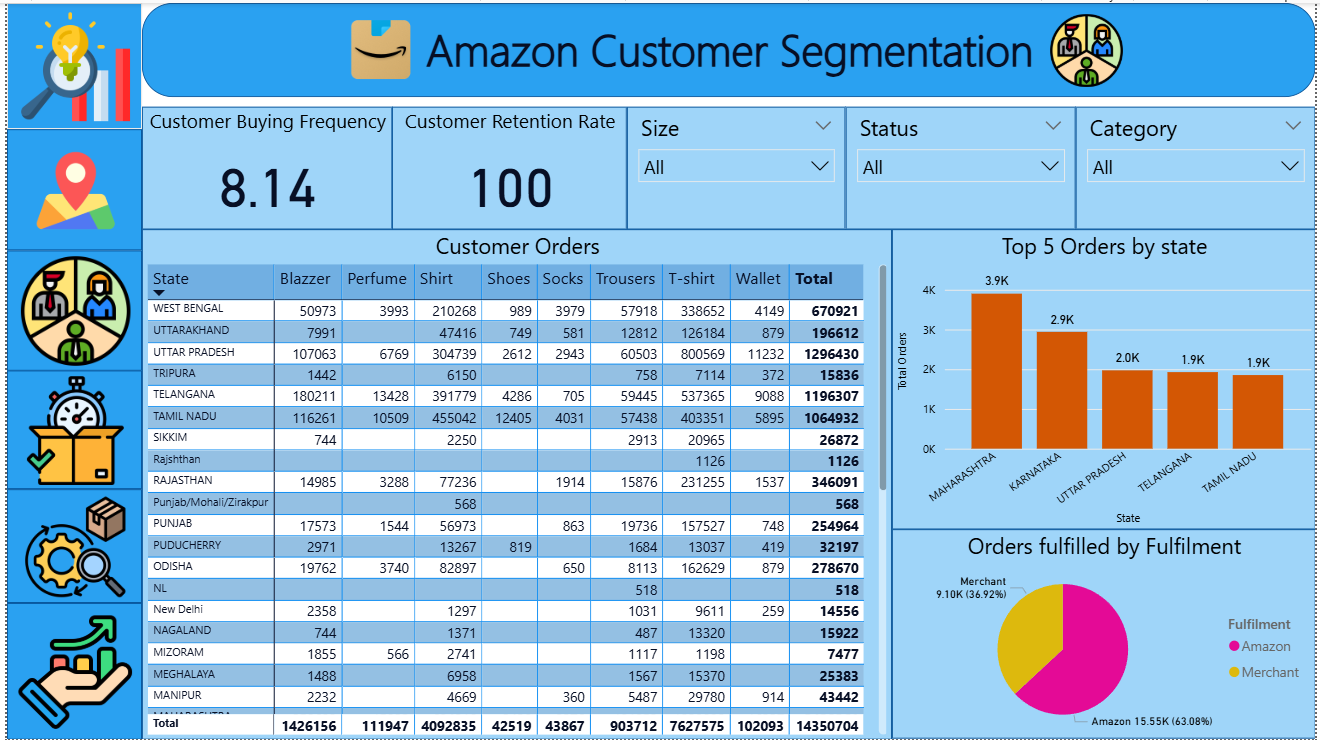

Layout of this report page (visuals, bound fields, positions):
{"tool":"powerbi","page":{"name":"Customer Segmentation","canvas":[1280,720],"ordinal":3},"visuals":[{"type":"textbox","box":[132.1,0,1148.2,91.7],"z":0},{"type":"image","box":[0,242.1,132.1,117.4],"z":1000},{"type":"image","box":[0,0,132.1,123.5],"z":2000},{"type":"image","box":[0,359.5,132.1,116.2],"z":3000},{"type":"image","box":[0,475.7,132.1,111.3],"z":4000},{"type":"image","box":[0,587,132.1,133.3],"z":5000},{"type":"image","box":[0,123.5,132.1,118.6],"z":6000},{"type":"image","box":[1010.1,6.1,91.7,80.7],"z":7000},{"type":"card","title":"Customer Buying Frequency","fields":{"Values":["Amazon Sale Report.Customer Buying Frequeny"]},"box":[132.1,101.5,244.6,119.8],"z":8000},{"type":"card","title":"Customer Retention Rate","fields":{"Values":["Amazon Sale Report.Customer Retention %"]},"box":[376.6,101.5,229.9,119.8],"z":9000},{"type":"slicer","fields":{"Values":["Amazon Sale Report.Status"]},"box":[820.5,101.5,225,119.8],"z":10000},{"type":"slicer","fields":{"Values":["Amazon Sale Report.Size"]},"box":[606.5,101.5,214,119.8],"z":11000},{"type":"slicer","fields":{"Values":["Amazon Sale Report.Category"]},"box":[1045.5,101.5,234.8,119.8],"z":12000},{"type":"clusteredColumnChart","title":"Top 5 Orders by state","fields":{"Y":["Amazon Sale Report.Total Orders"],"Category":["Amazon Sale Report.ship-state"]},"box":[865.9,220.9,414.4,293.7],"z":13000},{"type":"pivotTable","title":"Customer Orders","fields":{"Rows":["Amazon Sale Report.ship-state","Amazon Sale Report.ship-city"],"Columns":["Amazon Sale Report.Category"],"Values":["Sum(Amazon Sale Report.Amount)"]},"box":[132.1,221.3,733.7,498.9],"z":14000},{"type":"pieChart","fields":{"Y":["CountNonNull(Amazon Sale Report.fulfilled-by)"],"Category":["Amazon Sale Report.Fulfilment"]},"box":[866,515,414,205],"z":15000},{"type":"image","box":[303.3,0,124.7,91.7],"z":16000}]}

Visuals, with their boxes in screenshot pixels (x1, y1, x2, y2), scaled from the page's 1280x720 canvas onto the 1320x740 screenshot:
textbox: {"x1": 136, "y1": 0, "x2": 1319, "y2": 94}
image: {"x1": 0, "y1": 249, "x2": 136, "y2": 369}
image: {"x1": 0, "y1": 0, "x2": 136, "y2": 127}
image: {"x1": 0, "y1": 369, "x2": 136, "y2": 489}
image: {"x1": 0, "y1": 489, "x2": 136, "y2": 603}
image: {"x1": 0, "y1": 603, "x2": 136, "y2": 739}
image: {"x1": 0, "y1": 127, "x2": 136, "y2": 249}
image: {"x1": 1042, "y1": 6, "x2": 1136, "y2": 89}
"Customer Buying Frequency" card: {"x1": 136, "y1": 104, "x2": 388, "y2": 227}
"Customer Retention Rate" card: {"x1": 388, "y1": 104, "x2": 625, "y2": 227}
slicer - Amazon Sale Report.Status: {"x1": 846, "y1": 104, "x2": 1078, "y2": 227}
slicer - Amazon Sale Report.Size: {"x1": 625, "y1": 104, "x2": 846, "y2": 227}
slicer - Amazon Sale Report.Category: {"x1": 1078, "y1": 104, "x2": 1319, "y2": 227}
"Top 5 Orders by state" clusteredColumnChart: {"x1": 893, "y1": 227, "x2": 1319, "y2": 529}
"Customer Orders" pivotTable: {"x1": 136, "y1": 227, "x2": 893, "y2": 739}
pieChart - CountNonNull(Amazon Sale Report.fulfilled-by) x Amazon Sale Report.Fulfilment: {"x1": 893, "y1": 529, "x2": 1319, "y2": 739}
image: {"x1": 313, "y1": 0, "x2": 441, "y2": 94}
